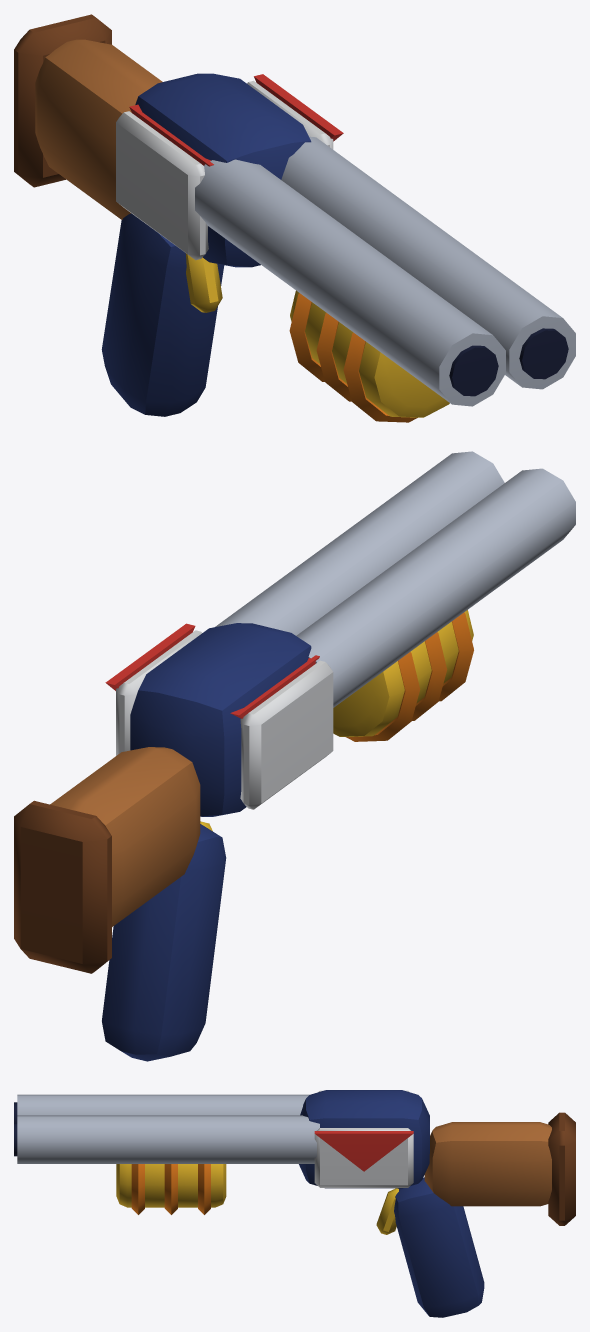
The model's file is w_j_shotgun.glb.
3 renders of one model, top to bottom at view 1: azimuth 30°, elevation 25°; view 2: azimuth 150°, elevation 25°; view 3: azimuth 270°, elevation 25°, orthographic. The views are drawn at different scales.
Parts seen in each view (by area): view 1: body; view 2: body; view 3: body.
Boxes of the visible parts, bbox=[...] form: body: bbox=[14, 14, 575, 422]; body: bbox=[14, 451, 575, 1061]; body: bbox=[14, 1090, 575, 1317].
Size of the model in its own units: 0.1656 by 0.371 by 0.8679.
